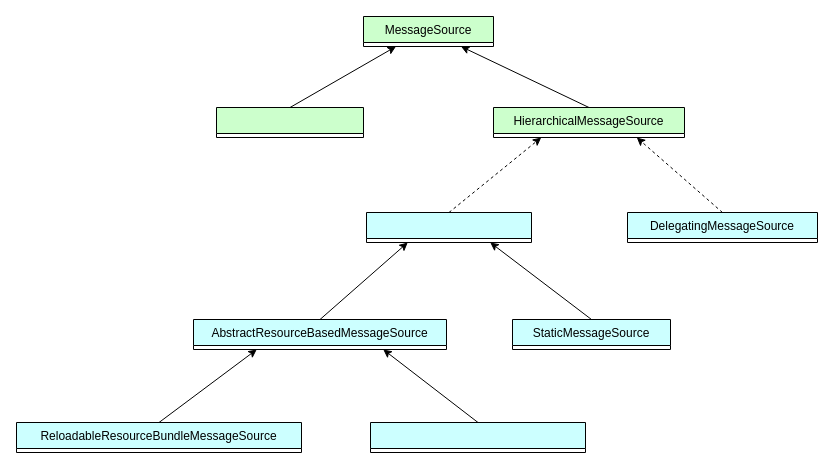
Some shapes in this 834 by 469 pixel diagram are drawn without their labels. Each missing label, with the centre of its shape:
AbstractMessageSource: point 449,227
ApplicationContext: point 290,122
ResourceBundleMessageSource: point 478,437
